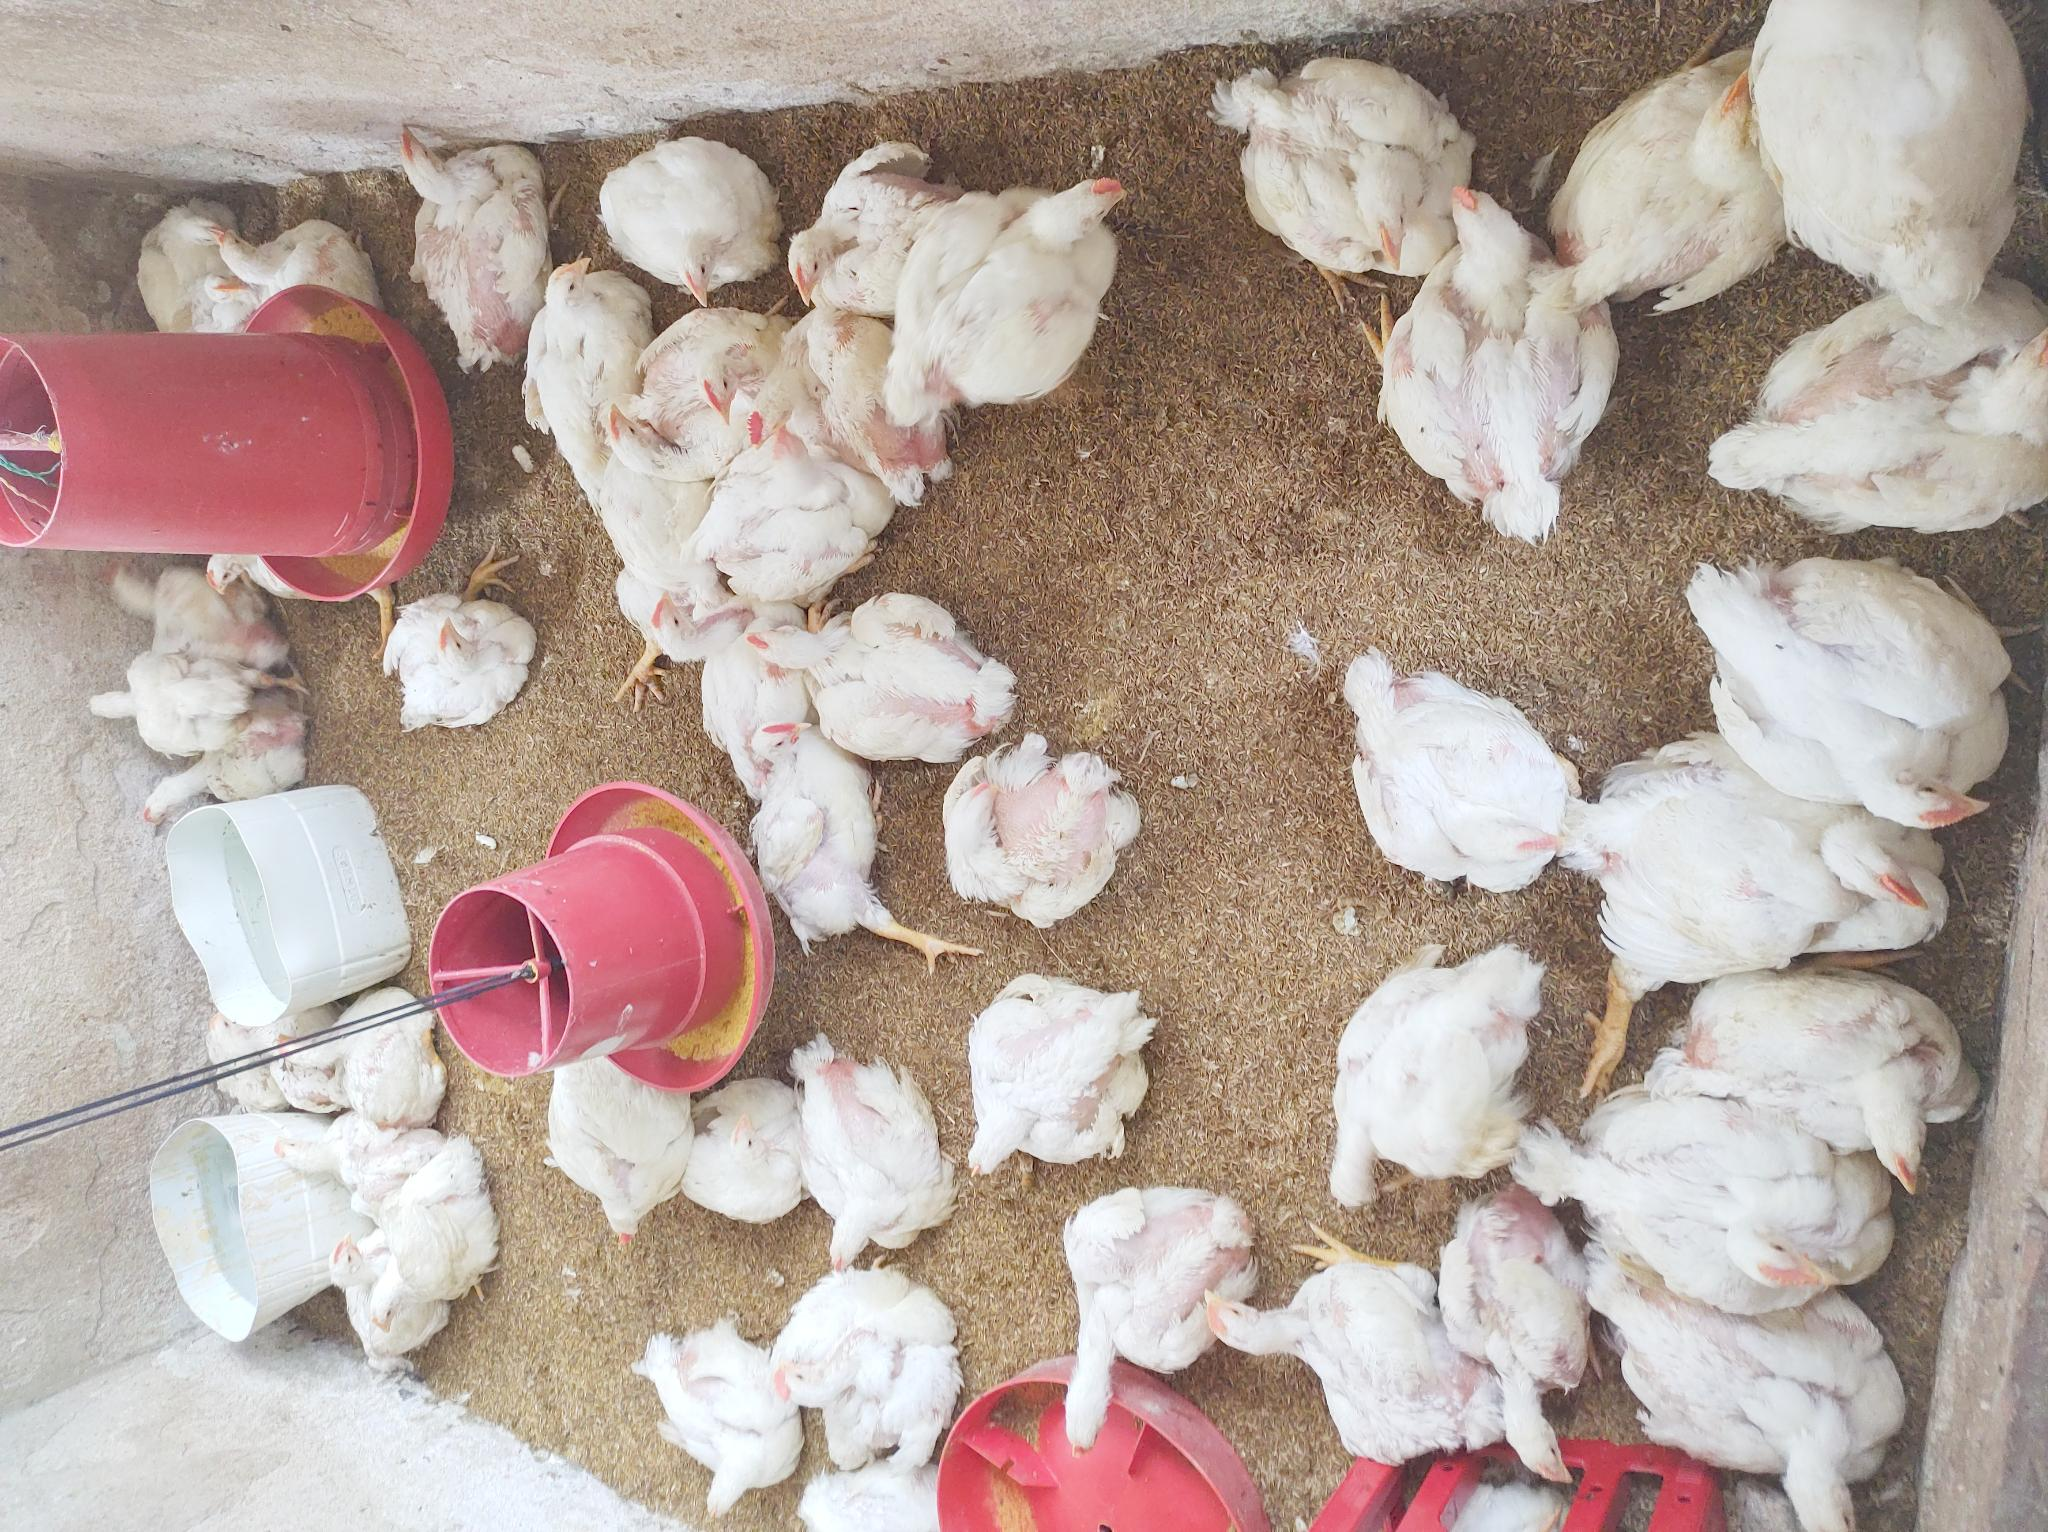Pollos: (1657, 533, 2035, 842), (1564, 710, 1988, 977), (1565, 1242, 1935, 1532), (1734, 0, 2043, 333), (1641, 966, 2013, 1210), (1692, 278, 2048, 533), (1371, 169, 1606, 544), (1491, 1091, 1902, 1299), (1205, 39, 1495, 325), (1178, 1221, 1515, 1464), (1339, 632, 1591, 903), (1298, 924, 1546, 1199), (1036, 1167, 1266, 1455), (890, 159, 1142, 410), (1424, 1160, 1615, 1489), (1549, 47, 1783, 314), (743, 591, 1018, 766), (957, 957, 1163, 1172), (391, 113, 561, 370), (730, 307, 972, 489), (779, 1030, 964, 1260), (758, 1263, 960, 1468), (642, 581, 825, 790), (615, 1318, 811, 1513), (936, 743, 1136, 927), (581, 406, 721, 666), (529, 1049, 701, 1258), (578, 140, 787, 301), (780, 142, 960, 319), (758, 702, 886, 948), (687, 443, 898, 592), (524, 240, 653, 472), (261, 986, 446, 1130), (364, 1126, 483, 1345), (76, 652, 312, 756), (137, 702, 315, 838), (668, 1075, 816, 1233), (372, 592, 537, 729), (627, 306, 771, 463), (100, 560, 298, 668), (333, 1212, 446, 1382), (262, 1099, 434, 1204), (204, 217, 383, 311), (130, 204, 256, 330), (195, 1007, 346, 1110), (196, 549, 310, 608)
